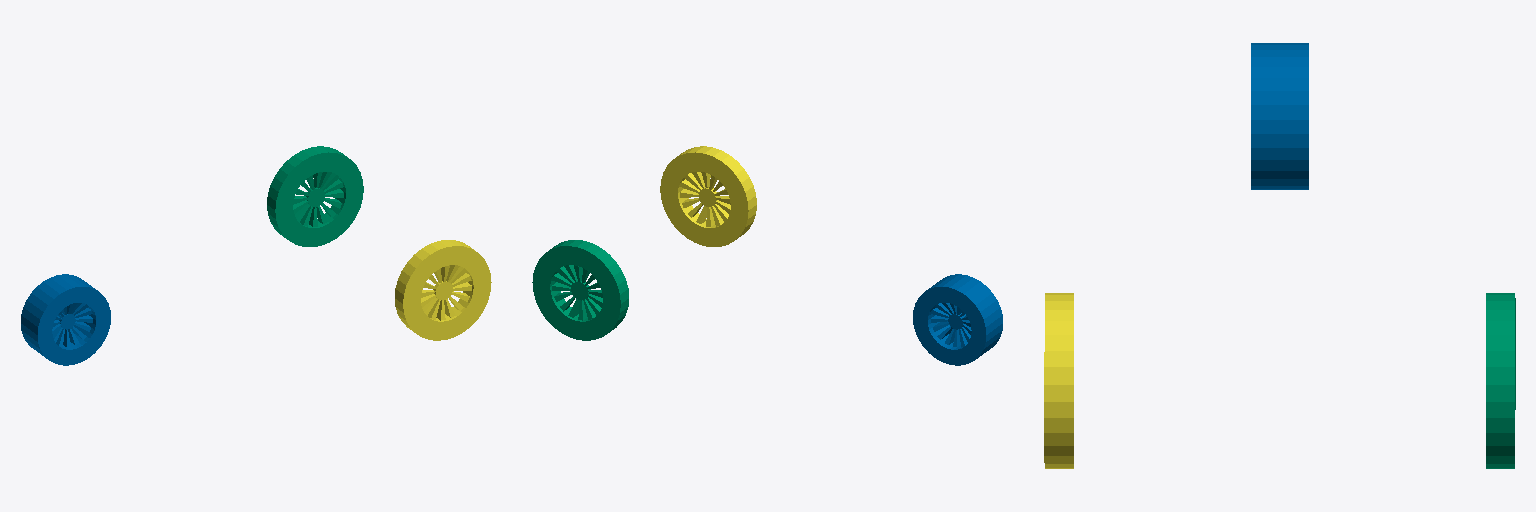
robot.urdf — turtlebot3_waffle:
<?xml version="1.0" ?>
<robot name="turtlebot3_waffle" xmlns:xacro="http://ros.org/wiki/xacro">

  <link name="base_footprint"/>

  <joint name="base_joint" type="fixed">
    <parent link="base_footprint"/>
    <child link="base_link" />
    <origin xyz="0 0 0.010" rpy="0 0 0"/>
  </joint>

  <link name="base_link">
    <visual>
      <origin xyz="0 0 0" rpy="0 0 3.14"/>
      <geometry>
        <mesh filename="package://aiformula_description/meshes/AIF_body.dae"/>
      </geometry>
    </visual>

    <collision>
      <origin xyz="0 0 0" rpy="0 0 3.14"/>
      <geometry>
        <mesh filename="package://aiformula_description/meshes/AIF_body.dae" />
      </geometry>
    </collision>

    <inertial>
      <origin xyz="0 0 0" rpy="0 0 3.14"/>
      <mass value="30"/>
      <inertia ixx="1.69600" ixy="0.000" ixz="0.000"
               iyy="2.00000" iyz="0.000"
               izz="2.89600" />
    </inertial>
  </link>

  <joint name="wheel_left_joint" type="continuous">
    <parent link="base_link"/>
    <child link="wheel_left_link"/>
    <origin xyz="0.0 0.3 0.0" rpy="1.57 0 1.57"/>
    <axis xyz="1 0 0"/>
  </joint>

  <link name="wheel_left_link">
    <visual>
      <origin xyz="0 0 0" rpy="0 0 0"/>
      <geometry>
        <mesh filename="package://aiformula_description/meshes/tire_v1.dae" scale="0.05 0.12 0.12"/>
      </geometry>
    </visual>

    <collision>
      <origin xyz="0 0 0" rpy="0 0 0"/>
      <geometry>
        <mesh filename="package://aiformula_description/meshes/tire_v1.dae" scale="0.05 0.12 0.12"/>
      </geometry>
    </collision>

    <inertial>
      <origin xyz="0 0 0" />
      <mass value="7.0" />
      <inertia ixx="0.04778" ixy="0.000" ixz="0.000"
               iyy="0.04778" iyz="0.000"
               izz="0.07875" />
      </inertial>
  </link>

  <joint name="wheel_right_joint" type="continuous">
    <parent link="base_link"/>
    <child link="wheel_right_link"/>
    <origin xyz="0.0 -0.3 0.0" rpy="1.57 0 1.57"/>
    <axis xyz="1 0 0"/>
  </joint>

  <link name="wheel_right_link">
    <visual>
      <origin xyz="0 0 0" rpy="0 0 0"/>
      <geometry>
        <mesh filename="package://aiformula_description/meshes/tire_v1.dae" scale="0.05 0.12 0.12"/>
      </geometry>
    </visual>

    <collision>
      <origin xyz="0 0 0" rpy="0 0 0"/>
      <geometry>
        <mesh filename="package://aiformula_description/meshes/tire_v1.dae" scale="0.05 0.12 0.12"/>
      </geometry>
    </collision>

    <inertial>
      <origin xyz="0 0 0" />
      <mass value="7.0" />
      <inertia ixx="0.04778" ixy="0.000" ixz="0.000"
               iyy="0.04778" iyz="0.000"
               izz="0.07875" />
      </inertial>
  </link>

  <joint name="caster_back_joint" type="fixed">
    <parent link="base_link"/>
    <child link="caster_back_link"/>
    <origin xyz="-0.85 0.0 0.0" rpy="1.57 0 1.57"/>
    <!-- <axis xyz="1 0 0"/> -->
  </joint>

  <link name="caster_back_link">
    <visual>
      <origin xyz="0 0 0" rpy="0 0 0"/>
      <geometry>
        <mesh filename="package://aiformula_description/meshes/tire_v1.dae" scale="0.1 0.1 0.1"/>
      </geometry>
    </visual>

   <collision>
      <origin xyz="0 0.001 0" rpy="0 0 0"/>
      <geometry>
        <box size="0.030 0.009 0.020"/>
      </geometry>
    </collision>

    <inertial>
      <origin xyz="0 0 0" />
      <mass value="0.005" />
      <inertia ixx="0.001" ixy="0.0" ixz="0.0"
               iyy="0.001" iyz="0.0"
               izz="0.001" />
    </inertial>
  </link>

  <!-- <joint name="caster_back_joint" type="continuous">
    <parent link="base_link"/>
    <child link="caster_back_link"/>
    <origin xyz="-0.85 0.0 0.0" rpy="0 0 1.57"/>
    <axis xyz="1 0 0"/>
  </joint>

  <link name="caster_back_link">
    <visual>
      <origin xyz="0 0 0" rpy="0 0 0"/>
      <geometry>
        <mesh filename="package://aiformula_description/meshes/tire_v1.dae" scale="0.1 0.1 0.1"/>
      </geometry>
    </visual>

    <collision>
      <origin xyz="0 0 0" rpy="0 0 0"/>
      <geometry>
        <mesh filename="package://aiformula_description/meshes/tire_v1.dae" scale="0.1 0.1 0.1"/>
      </geometry>
    </collision>

    <inertial>
      <origin xyz="0 0 0" />
      <mass value="5.0" />
      <inertia ixx="0.01517" ixy="0.0" ixz="0.0"
               iyy="0.01517" iyz="0.0"
               izz="0.02500" />
    </inertial>
  </link> -->

  <joint name="imu_joint" type="fixed">
    <parent link="base_link"/>
    <child link="imu_link"/>
    <origin xyz="0.0 0 0.068" rpy="0 0 0"/>
  </joint>

  <link name="imu_link"/>

  <joint name="camera_joint" type="fixed">
    <origin xyz="0.064 -0.065 0.44" rpy="0 0 0"/>
    <parent link="base_link"/>
    <child link="camera_link"/>
  </joint>

  <link name="camera_link">
    <visual>
     <origin xyz="0 0 0" rpy="1.57 0 1.57"/>
      <geometry>
       <mesh filename="package://aiformula_description/meshes/r200.dae" />
      </geometry>
    </visual>
    <collision>
      <origin xyz="0.003 0.065 0.007" rpy="0 0 0"/>
      <geometry>
        <box size="0.012 0.132 0.020"/>
      </geometry>
    </collision>

  </link>

  <joint name="camera_rgb_joint" type="fixed">
    <origin xyz="0.005 0.018 0.013" rpy="0 0 0"/>
    <parent link="camera_link"/>
    <child link="camera_rgb_frame"/>
  </joint>
  <link name="camera_rgb_frame"/>

  <joint name="camera_rgb_optical_joint" type="fixed">
    <origin xyz="0 0 0" rpy="-1.57 0 -1.57"/>
    <parent link="camera_rgb_frame"/>
    <child link="camera_rgb_optical_frame"/>
  </joint>
  <link name="camera_rgb_optical_frame"/>

  <joint name="camera_depth_joint" type="fixed">
    <origin xyz="0.005 0.028 0.013" rpy="0 0 0"/>
    <parent link="camera_link"/>
    <child link="camera_depth_frame"/>
  </joint>
  <link name="camera_depth_frame"/>

  <joint name="camera_depth_optical_joint" type="fixed">
    <origin xyz="0 0 0" rpy="-1.57 0 -1.57"/>
    <parent link="camera_depth_frame"/>
    <child link="camera_depth_optical_frame"/>
  </joint>
  <link name="camera_depth_optical_frame"/>

</robot>

--- What the picture shows (computed from the rendered views, not written in the file) ---
The picture shows the robot from 3 angles, left to right: view 1: azimuth 30°, elevation 25°; view 2: azimuth 150°, elevation 25°; view 3: azimuth 270°, elevation 25°; orthographic projection.
Robot: turtlebot3_waffle — 11 links, 10 joints (2 continuous, 8 fixed); root link base_footprint; default pose: every joint at zero.
Links seen in each view (by area): view 1: wheel_left_link, wheel_right_link, caster_back_link; view 2: wheel_right_link, wheel_left_link, caster_back_link; view 3: caster_back_link, wheel_left_link, wheel_right_link.
Boxes of the visible links, left/top/right/bottom form: wheel_left_link: left=267, top=146, right=363, bottom=246; wheel_right_link: left=395, top=240, right=491, bottom=340; caster_back_link: left=21, top=274, right=110, bottom=365; wheel_right_link: left=660, top=146, right=756, bottom=246; wheel_left_link: left=532, top=240, right=628, bottom=340; caster_back_link: left=913, top=274, right=1002, bottom=365; caster_back_link: left=1251, top=43, right=1308, bottom=189; wheel_left_link: left=1486, top=293, right=1515, bottom=468; wheel_right_link: left=1044, top=293, right=1073, bottom=468.
Bounding box of the posed robot: 1.07 × 0.6402 × 0.24 m (x, y, z).
3 mesh visuals loaded from 3 distinct referenced files (1 Collada DAE); not drawn: 2 (reference not matched to a file when rendering).